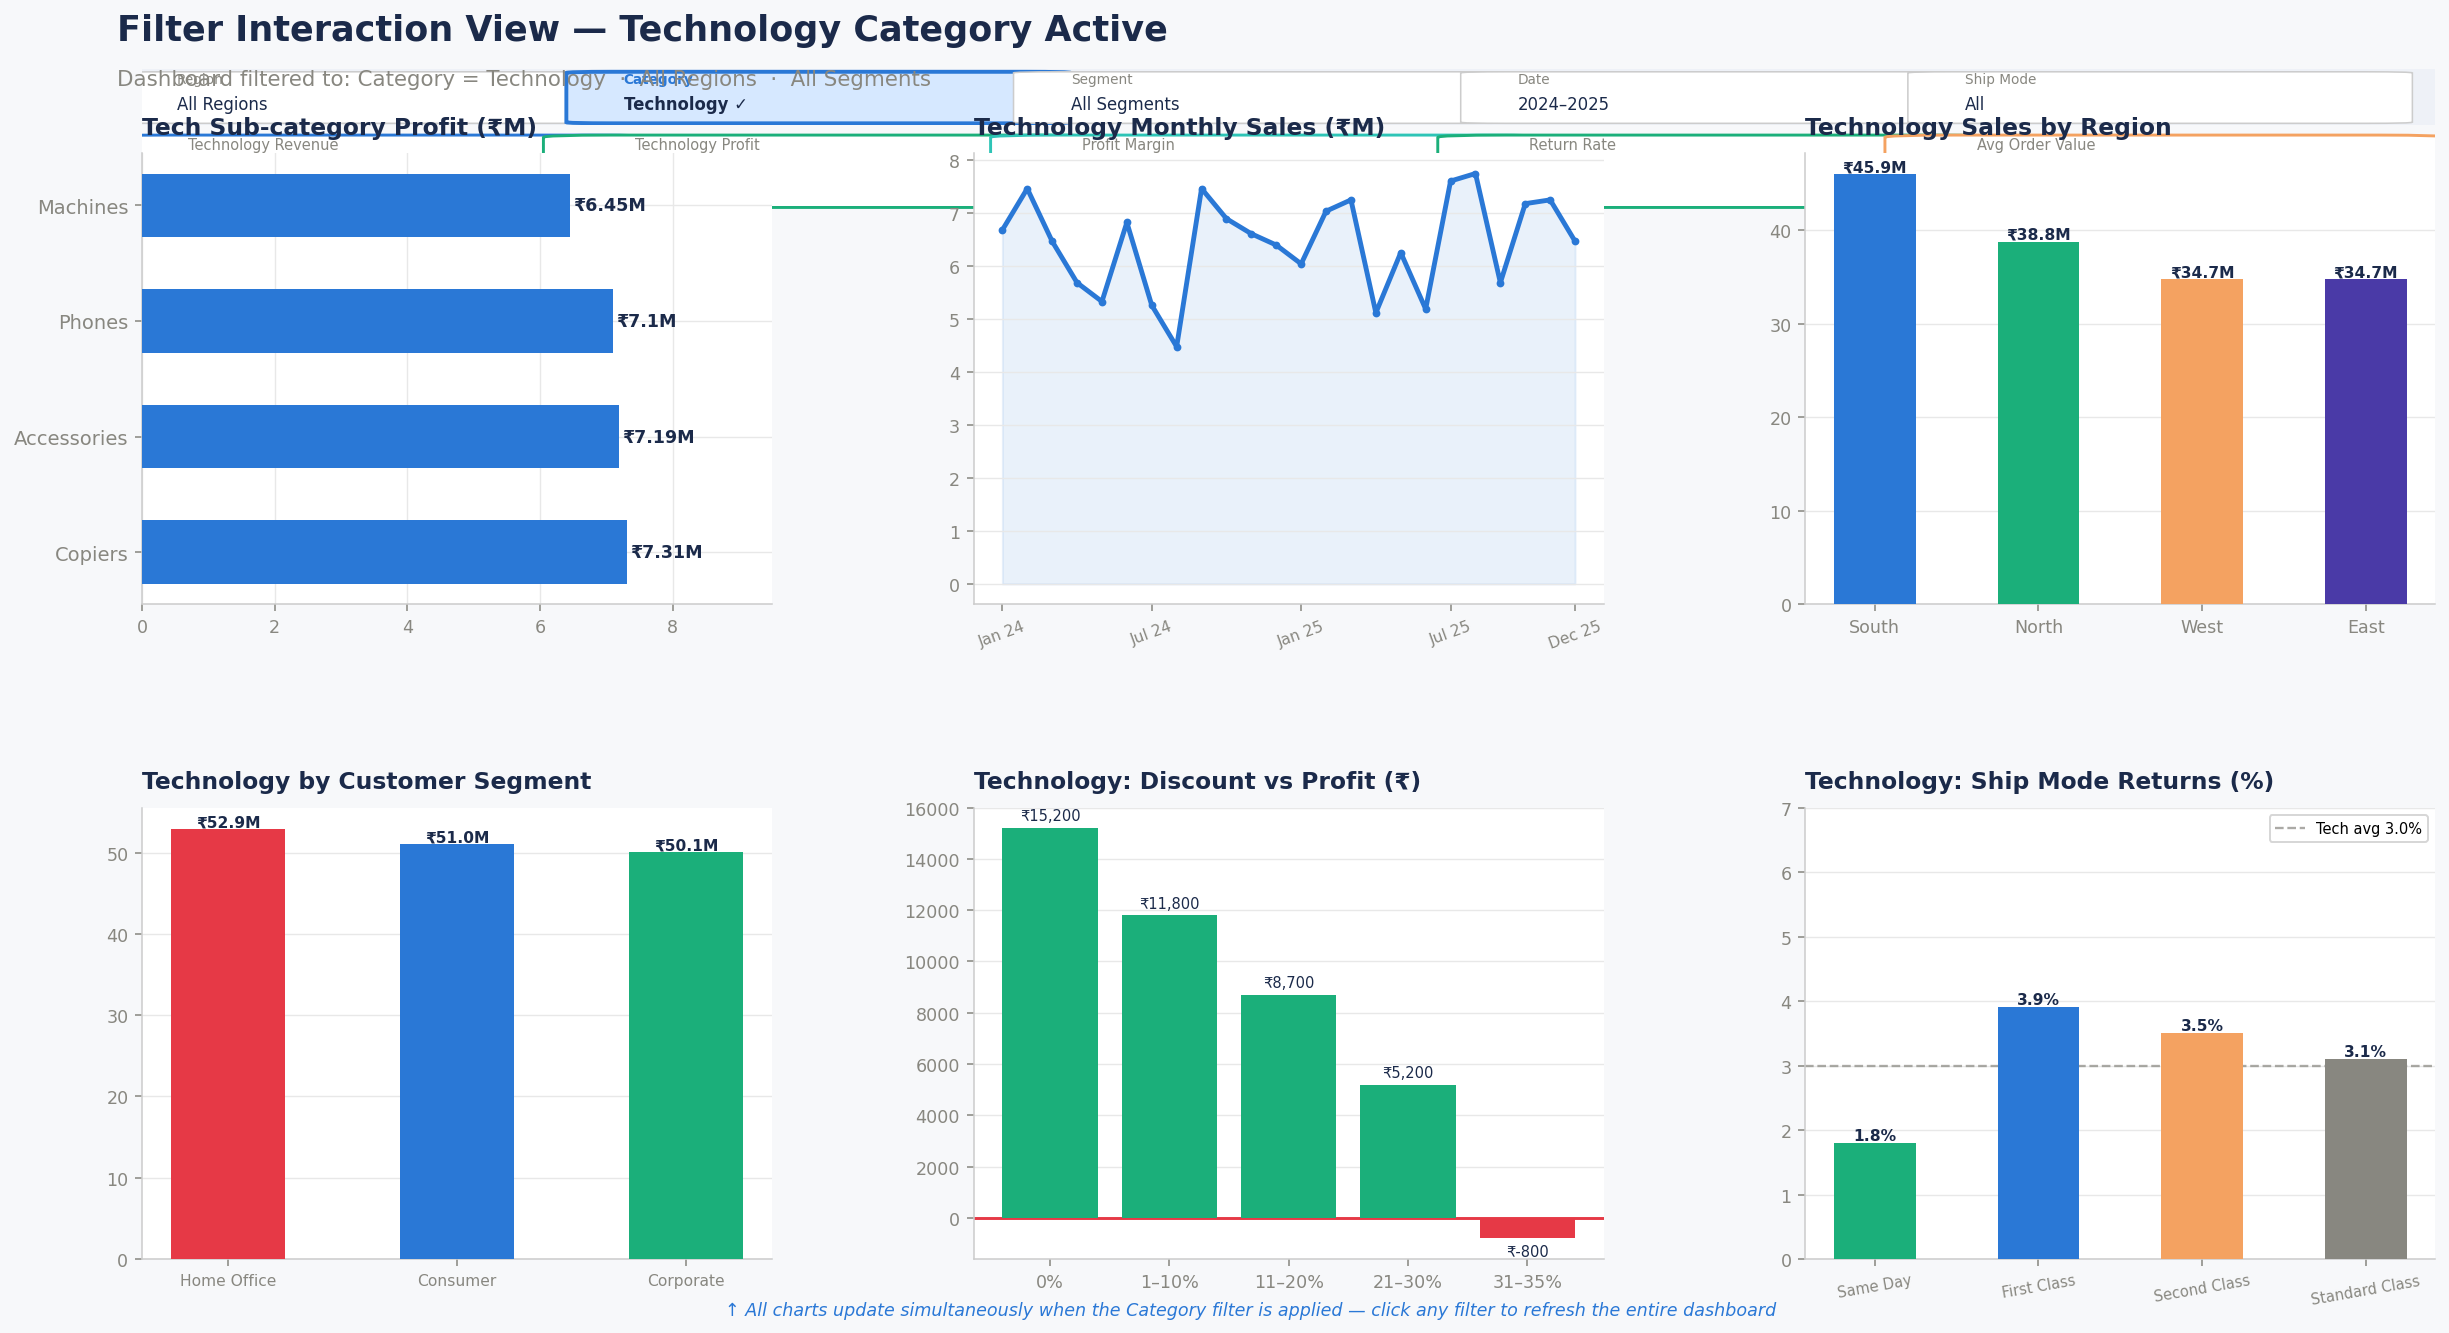

Layout of this report page (visuals, bound fields, positions):
{"tool":"tableau","page":{"name":"Executive Sales Dashboard","canvas":[1400,900],"ordinal":0},"visuals":[{"type":"title","box":[8,8,1384,51]},{"type":"worksheet","title":"Revenue","mark":"Text","box":[33,57,315,165]},{"type":"worksheet","title":"Profit Margin","mark":"Text","box":[348,57,381,165]},{"type":"worksheet","title":"Return Rate","mark":"Automatic","box":[729,57,396,165]},{"type":"legend","title":"Sales Trend","param":"[federated.1uaqsez0iasp6d17phkro1o5pl1t].[:Measure Names]","box":[1232,59,160,66]},{"type":"legend","title":"Regional Performance","param":"[federated.1uaqsez0iasp6d17phkro1o5pl1t].[none:region:nk]","box":[1232,125,160,106]},{"type":"filter","title":"Sales Trend","param":"[federated.1uaqsez0iasp6d17phkro1o5pl1t].[none:region:nk]","box":[772,226,160,119]},{"type":"filter","title":"Sales Trend","param":"[federated.1uaqsez0iasp6d17phkro1o5pl1t].[none:customer_segment:nk]","box":[880,226,160,100]},{"type":"worksheet","title":"Sales Trend","mark":"Line","rows":["sales","profit"],"cols":["order_date"],"box":[11,228,597,224]},{"type":"filter","title":"Sales Trend","param":"[federated.1uaqsez0iasp6d17phkro1o5pl1t].[none:category:nk]","box":[618,228,160,100]},{"type":"legend","title":"Category Profitability","param":"[federated.1uaqsez0iasp6d17phkro1o5pl1t].[none:category:nk]","box":[1232,231,160,86]},{"type":"legend","title":" Discount vs Profit","param":"[federated.1uaqsez0iasp6d17phkro1o5pl1t].[usr:Calculation_0518437108998150:qk]","box":[1232,317,160,65]},{"type":"filter","title":"Sales Trend","param":"[federated.1uaqsez0iasp6d17phkro1o5pl1t].[none:ship_mode:nk]","box":[623,353,160,119]},{"type":"filter","title":"Sales Trend","param":"[federated.1uaqsez0iasp6d17phkro1o5pl1t].[none:order_date:qk]","box":[771,359,160,61]},{"type":"legend","title":"Return Analysis","param":"[federated.1uaqsez0iasp6d17phkro1o5pl1t].[usr:Calculation_0518437108678659:qk]","box":[1232,382,160,65]},{"type":"worksheet","title":"Regional Performance","mark":"Automatic","rows":["region"],"cols":["sales","profit"],"box":[33,497,435,201]},{"type":"worksheet","title":"Category Profitability","mark":"Automatic","rows":["profit"],"cols":["category","sub_category"],"box":[520,531,463,201]},{"type":"worksheet","title":"Return Analysis","mark":"Square","rows":["category"],"cols":["region"],"box":[532,746,330,150]}]}

Visuals, with their boxes on the page's 1400x900 design canvas (x1, y1, x2, y2). These are canvas units, not pixel positions in the 2449x1333 screenshot, which may show the page scaled, cropped or inside an application window:
title: 8, 8, 1392, 59
"Revenue" worksheet (Text marks): 33, 57, 348, 222
"Profit Margin" worksheet (Text marks): 348, 57, 729, 222
"Return Rate" worksheet: 729, 57, 1125, 222
"Sales Trend" legend: 1232, 59, 1392, 125
"Regional Performance" legend: 1232, 125, 1392, 231
"Sales Trend" filter: 772, 226, 932, 345
"Sales Trend" filter: 880, 226, 1040, 326
"Sales Trend" worksheet (Line marks): 11, 228, 608, 452
"Sales Trend" filter: 618, 228, 778, 328
"Category Profitability" legend: 1232, 231, 1392, 317
" Discount vs Profit" legend: 1232, 317, 1392, 382
"Sales Trend" filter: 623, 353, 783, 472
"Sales Trend" filter: 771, 359, 931, 420
"Return Analysis" legend: 1232, 382, 1392, 447
"Regional Performance" worksheet: 33, 497, 468, 698
"Category Profitability" worksheet: 520, 531, 983, 732
"Return Analysis" worksheet (Square marks): 532, 746, 862, 896
